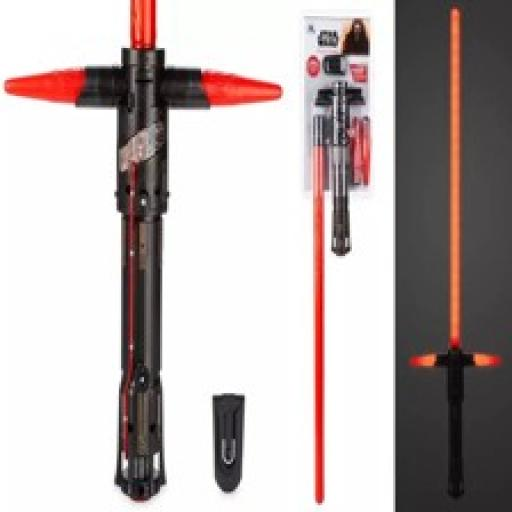lightsaber: (315, 87, 367, 253)
sith saber: (6, 1, 282, 501), (416, 5, 500, 499)
